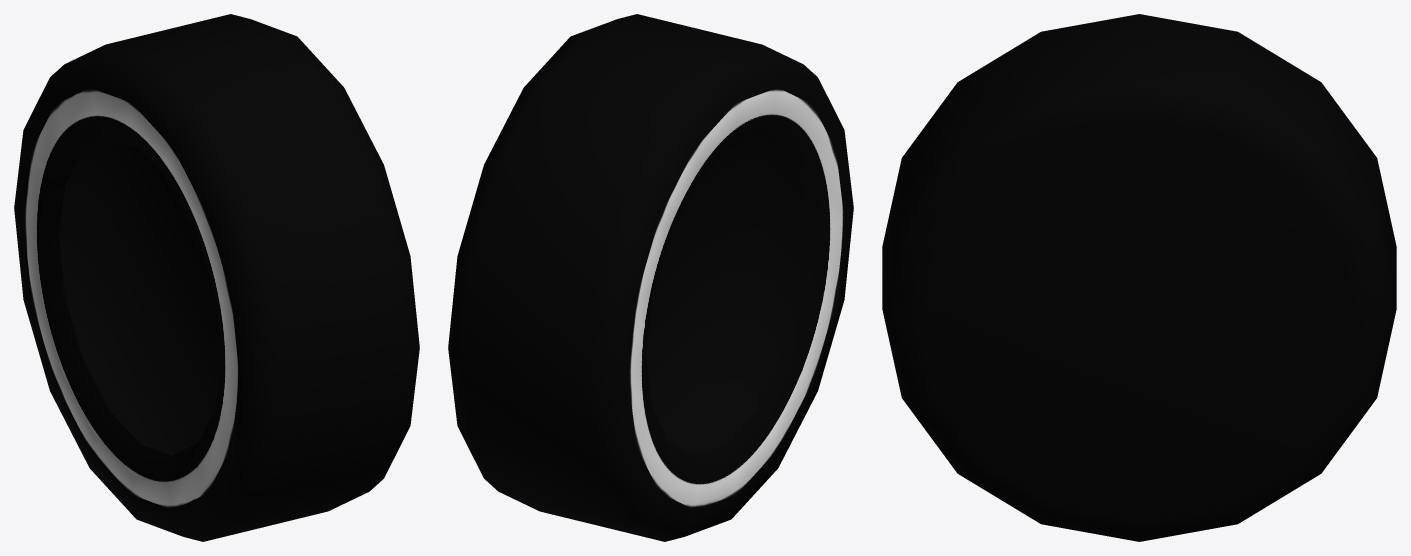
File: Tyre01.fbx
3 renders of one model, left to right at view 1: azimuth 30°, elevation 25°; view 2: azimuth 150°, elevation 25°; view 3: azimuth 270°, elevation 25°, orthographic.
Visible parts, largest first — view 1: tire.004; view 2: tire.004; view 3: tire.004.
Part boxes in pixels (left/top/right/bottom): tire.004: left=14, top=14, right=419, bottom=541; tire.004: left=448, top=14, right=853, bottom=541; tire.004: left=882, top=14, right=1396, bottom=541.
Bounding box in the file's own units: 6.47 × 16.7 × 16.7.
